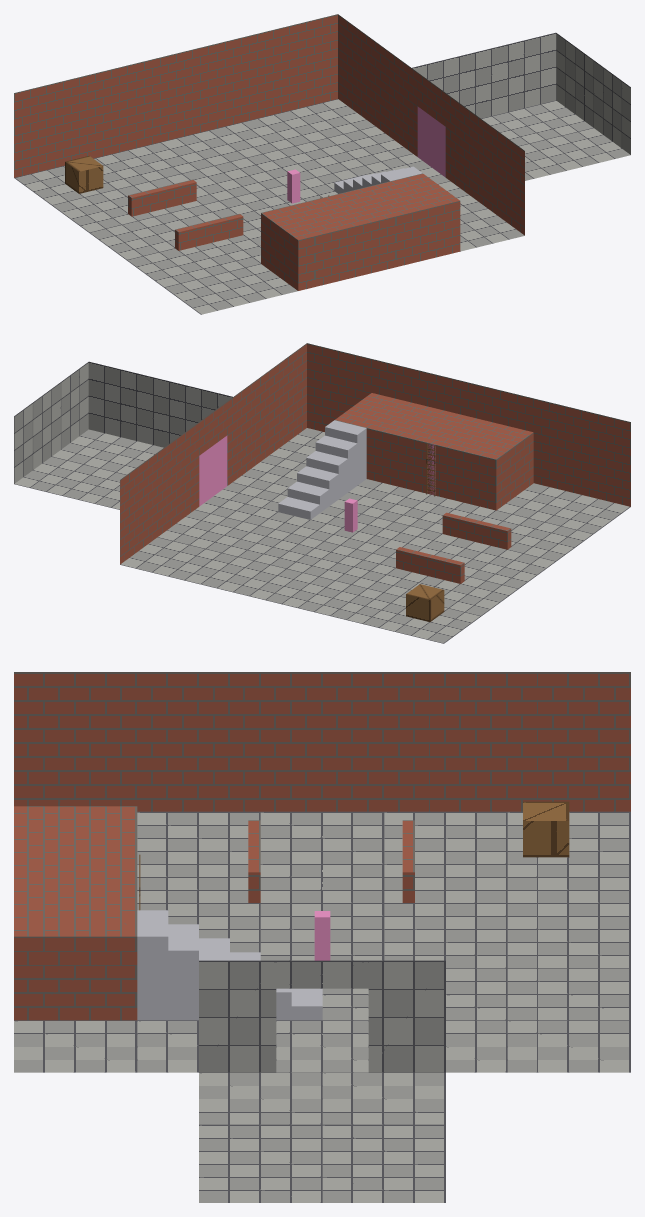
The model's file is example.gltf.
3 renders of one model, top to bottom at view 1: azimuth 30°, elevation 25°; view 2: azimuth 150°, elevation 25°; view 3: azimuth 270°, elevation 25°, orthographic. The views are drawn at different scales.
Parts seen in each view (by area): view 1: yard_walls, yard_floor, blocks, hall, Portal_01_02, crate, steps, reference_player; view 2: yard_floor, yard_walls, hall, blocks, steps, Portal_01_02, crate, reference_player; view 3: yard_floor, yard_walls, hall, blocks, steps, crate, reference_player.
Boxes of the visible parts, x1,y1,x2,y2 form: yard_walls: [14, 14, 524, 235]; yard_floor: [14, 99, 524, 314]; blocks: [128, 173, 460, 290]; hall: [412, 32, 630, 180]; Portal_01_02: [417, 106, 445, 177]; crate: [65, 155, 103, 193]; steps: [334, 166, 422, 193]; reference_player: [287, 169, 300, 203]; yard_floor: [120, 428, 630, 643]; yard_walls: [120, 343, 630, 564]; hall: [14, 361, 232, 509]; blocks: [334, 393, 533, 583]; steps: [278, 420, 366, 519]; Portal_01_02: [199, 435, 227, 506]; crate: [406, 584, 444, 621]; reference_player: [344, 498, 357, 532]; yard_floor: [14, 811, 630, 1072]; yard_walls: [14, 672, 630, 811]; hall: [199, 960, 445, 1202]; blocks: [14, 806, 414, 1020]; steps: [137, 910, 322, 1020]; crate: [523, 801, 569, 857]; reference_player: [314, 911, 330, 960].
Size of what is drawn, in the model's own units: 30 by 5 by 20.
Materials: 5 (3 with a texture image).
